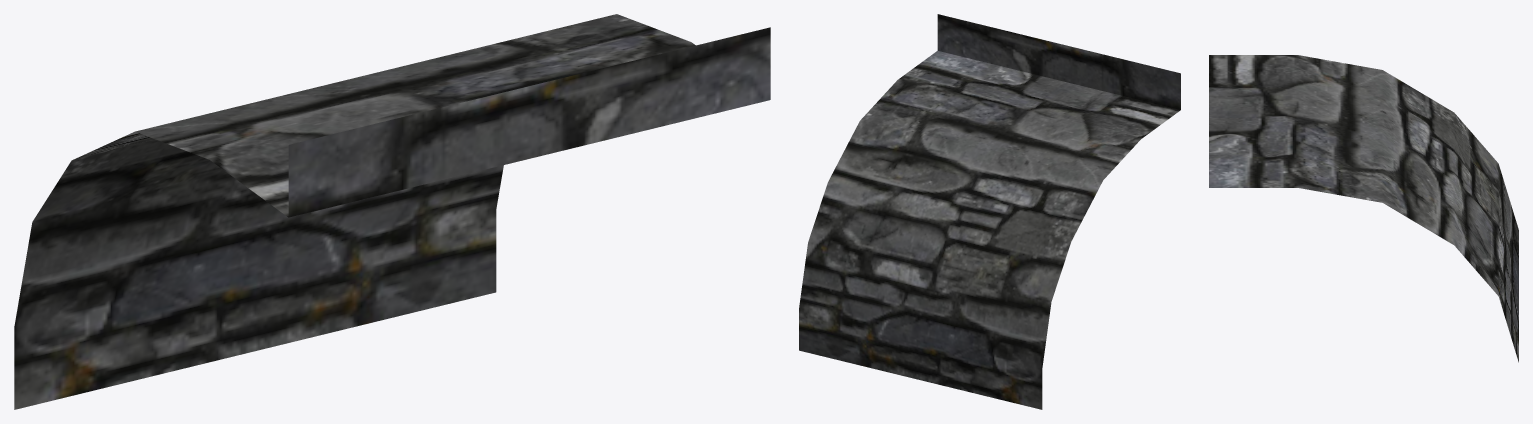
The model's file is Roof 1.fbx.
The picture shows the model from 3 angles, left to right: view 1: azimuth 30°, elevation 25°; view 2: azimuth 150°, elevation 25°; view 3: azimuth 270°, elevation 25°; orthographic projection. The views are drawn at different scales.
Parts seen in each view (by area): view 1: Roof 1; view 2: Roof 1; view 3: Roof 1.
Part boxes in pixels (x1,y1,x2,y2): Roof 1: [14, 14, 770, 409]; Roof 1: [799, 14, 1180, 409]; Roof 1: [1209, 55, 1518, 362].
Size of the model in its own units: 1033 by 954 by 1018.
